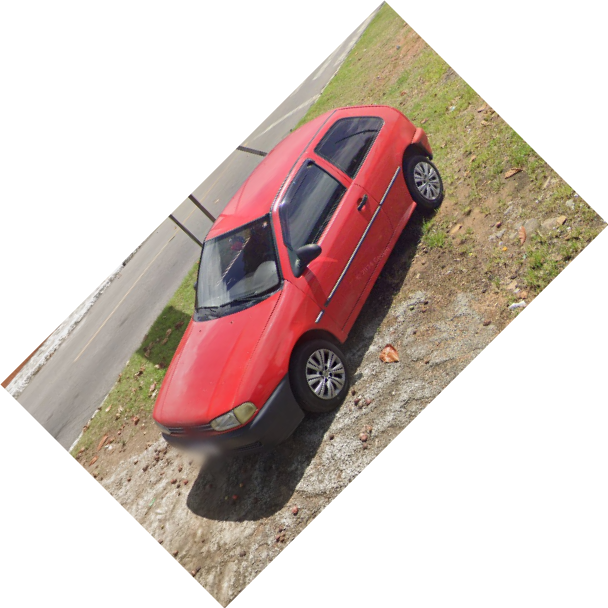car: (148, 101, 445, 454)
